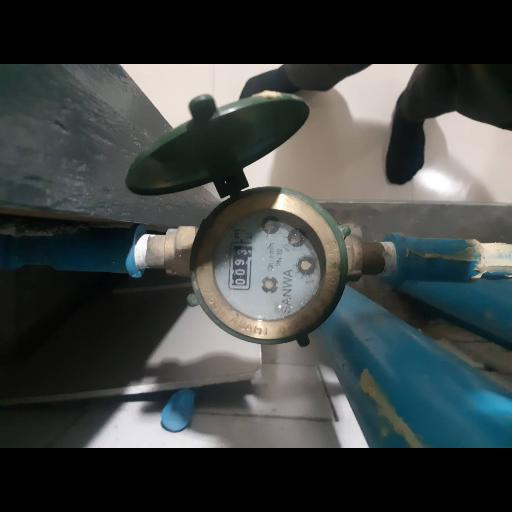0: (233, 277, 248, 287), (233, 268, 248, 278)
3: (233, 246, 252, 259)
9: (233, 258, 248, 269)
border_water_meter_number: (228, 241, 253, 291)
